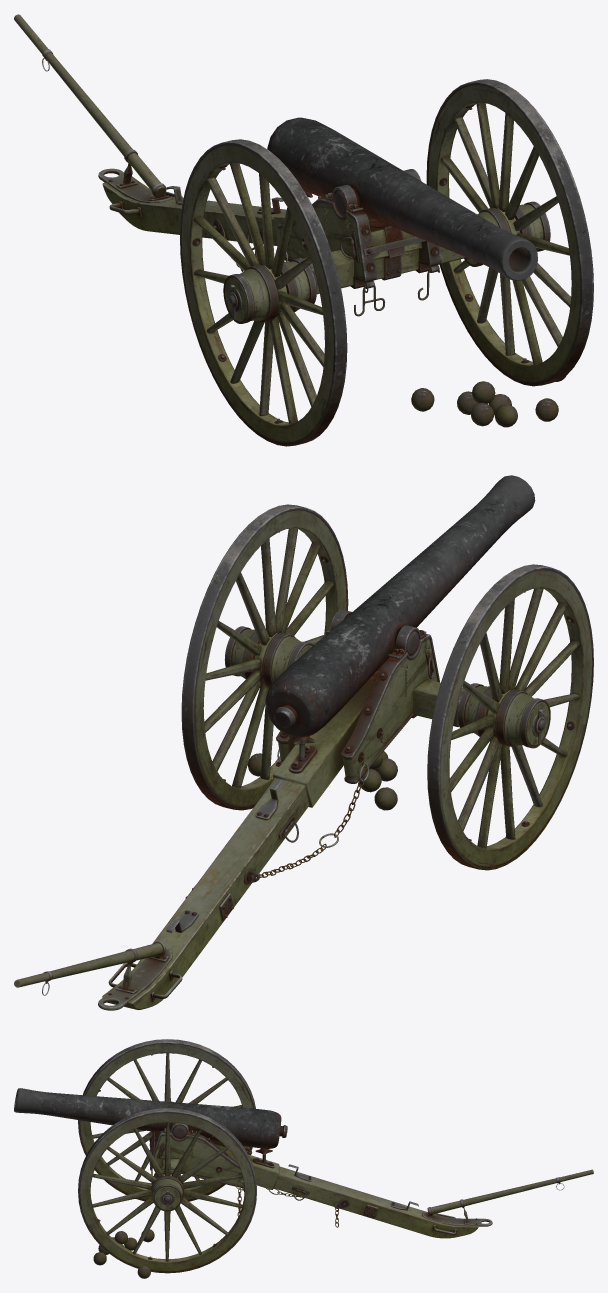
File: SM_SF_Napoleon_Cannon.fbx
The picture shows the model from 3 angles, top to bottom: view 1: azimuth 30°, elevation 25°; view 2: azimuth 150°, elevation 25°; view 3: azimuth 270°, elevation 25°; orthographic projection. The views are drawn at different scales.
Parts seen in each view (by area): view 1: SM_SF_Napoleon_Cannon_LOD0; view 2: SM_SF_Napoleon_Cannon_LOD0; view 3: SM_SF_Napoleon_Cannon_LOD0.
Part boxes in pixels (x1=…): SM_SF_Napoleon_Cannon_LOD0: x1=14, y1=14, x2=593, y2=446; SM_SF_Napoleon_Cannon_LOD0: x1=14, y1=475, x2=593, y2=1010; SM_SF_Napoleon_Cannon_LOD0: x1=14, y1=1039, x2=593, y2=1278.
Size of the model in its own units: 152 by 420 by 130.
1 material, 1 textured.
